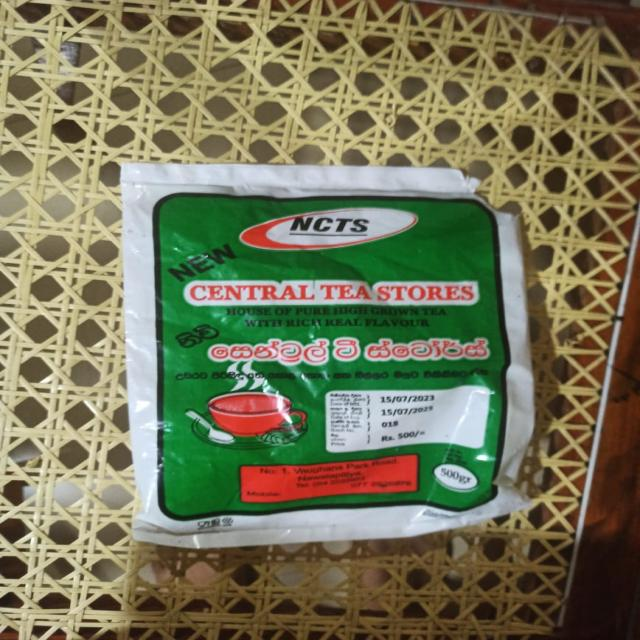Central Tea: (110, 160, 536, 552)
